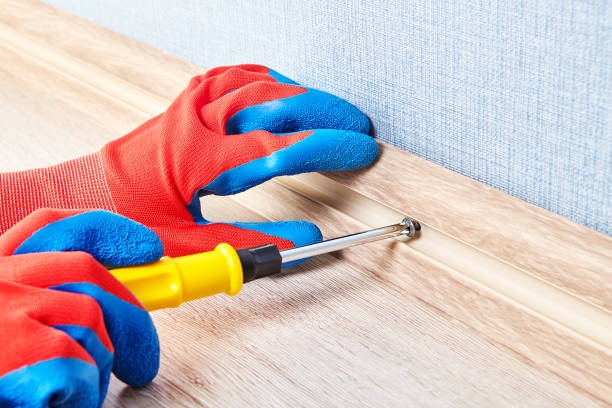screwdriver: (82, 217, 409, 306)
